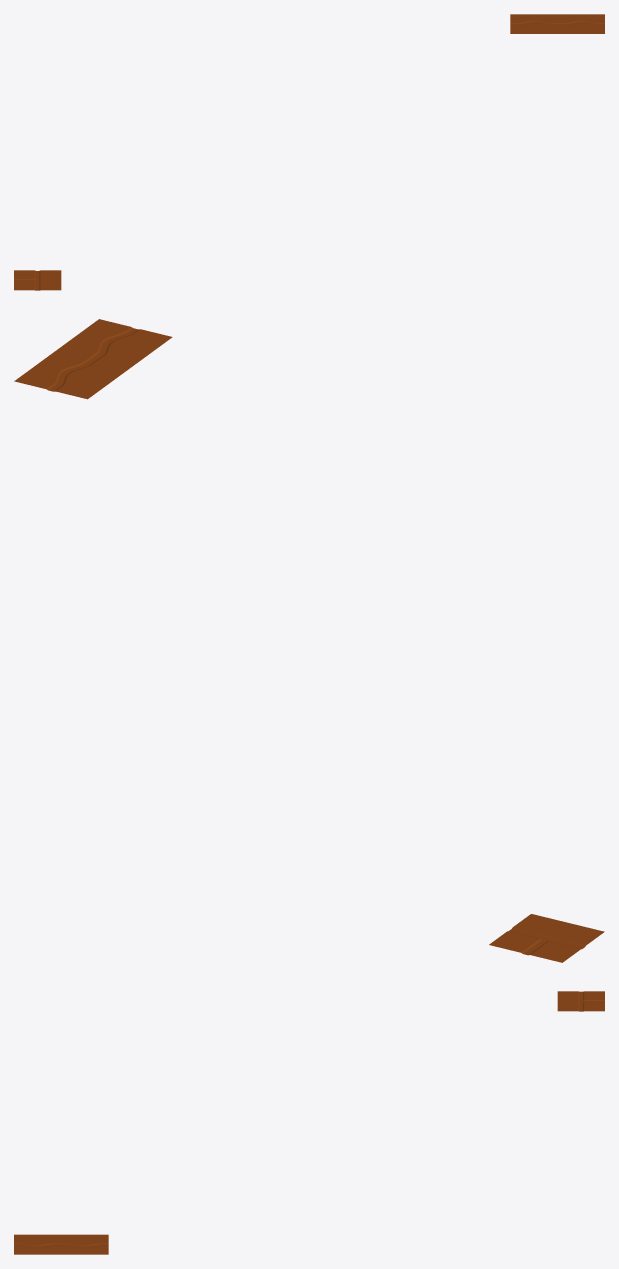
File: Terrain_Part_Plane_10.glb
3 views of the same model, one above another, from view 1: azimuth 90°, elevation 25°; view 2: azimuth 150°, elevation 25°; view 3: azimuth 270°, elevation 25° (orthographic). The views are drawn at different scales.
Visible parts, largest first — view 1: Terrain_Part_Plane_10.003; view 2: Terrain_Part_Plane_10.003; view 3: Terrain_Part_Plane_10.003.
Boxes of the visible parts, x1,y1,x2,y2 form: Terrain_Part_Plane_10.003: [14, 14, 604, 290]; Terrain_Part_Plane_10.003: [14, 319, 604, 962]; Terrain_Part_Plane_10.003: [14, 991, 604, 1254].
Size of the model in its own units: 270 by 3.2 by 250.
